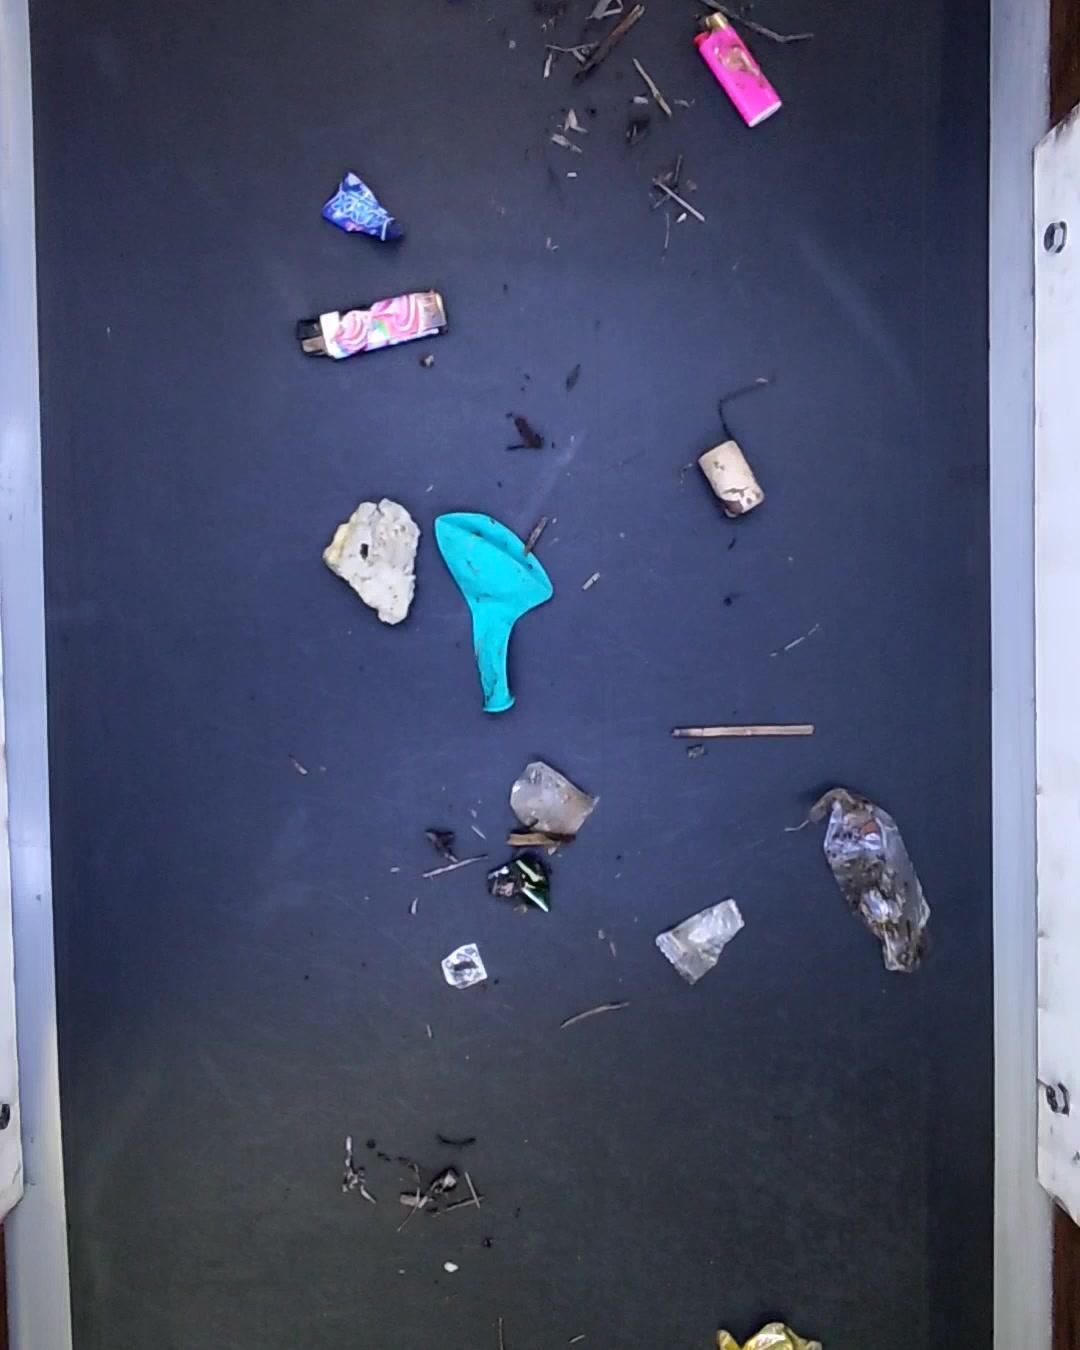Plastic folies of stukken daarvan 2.5- 50 cm: (800, 788, 939, 985), (651, 898, 749, 990), (507, 759, 604, 849)
Snoep snack en chips verpakkingen: (322, 169, 403, 251)
